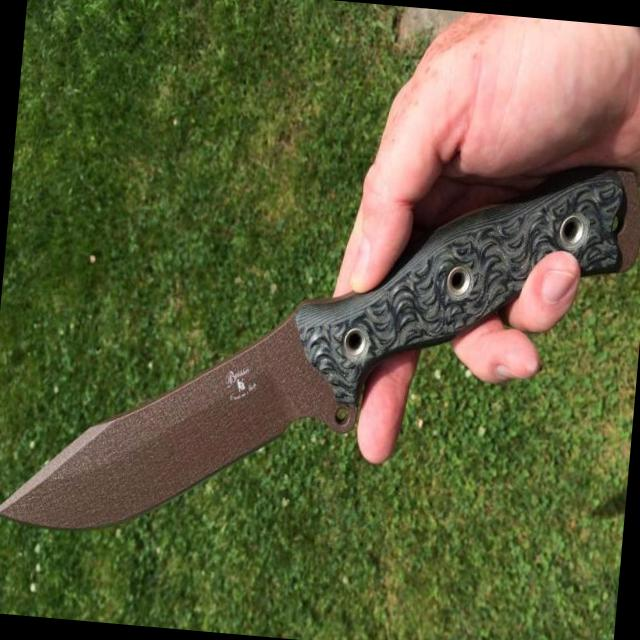Knife: (0, 168, 640, 528)
